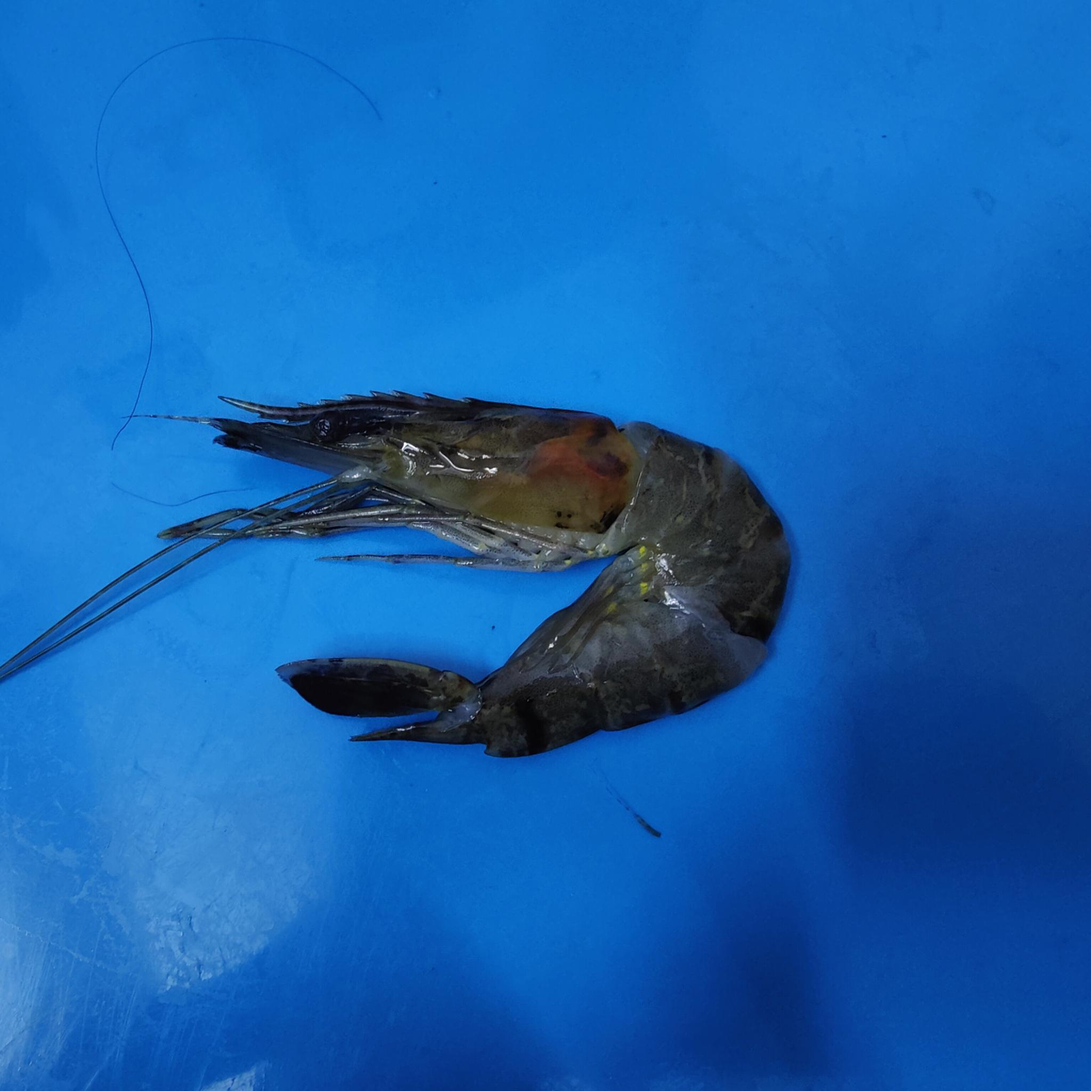whitespot: (429, 411, 629, 536)
